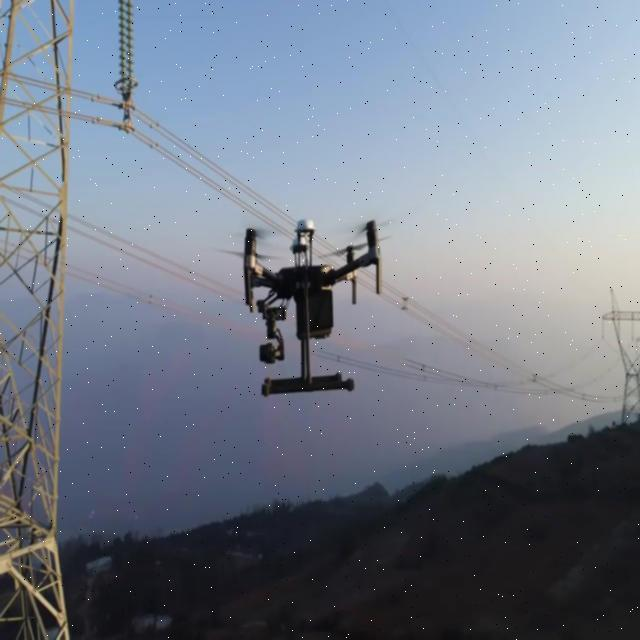UAV: (221, 217, 393, 398)
